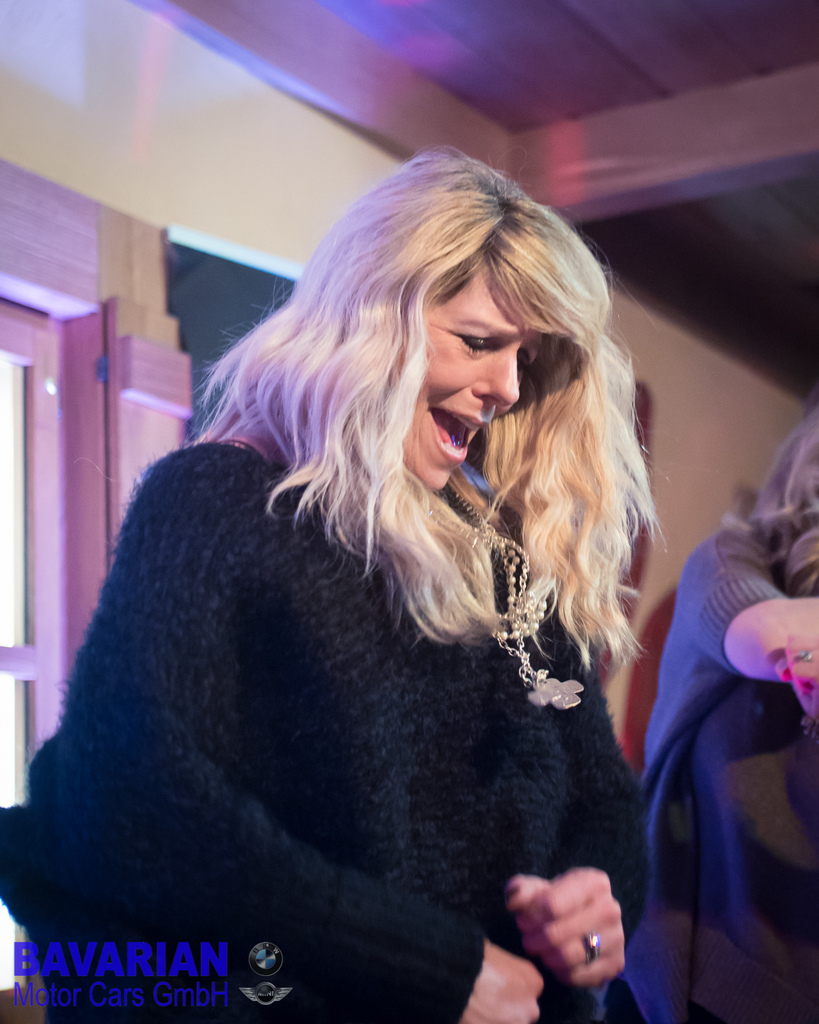Human_hand: (511, 865, 628, 988), (460, 939, 546, 1023)
